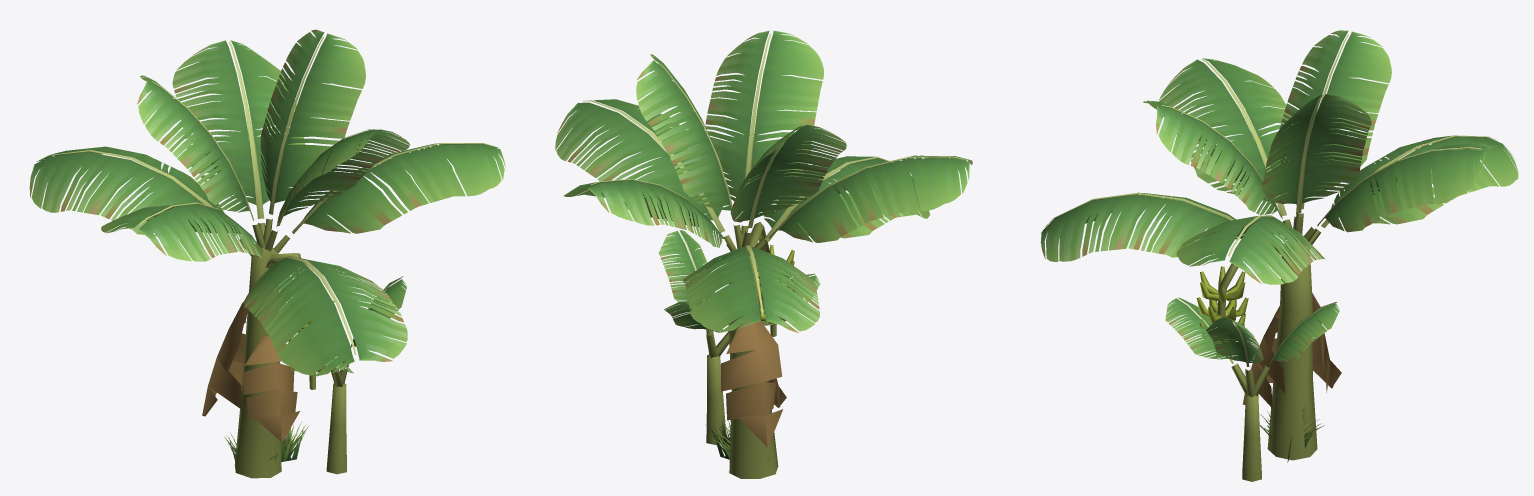
The model's file is banana.glb.
3 views of the same model, side by side, from view 1: azimuth 30°, elevation 25°; view 2: azimuth 150°, elevation 25°; view 3: azimuth 270°, elevation 25° (orthographic). The views are drawn at different scales.
Parts seen in each view (by area): view 1: banana_mesh; view 2: banana_mesh; view 3: banana_mesh.
Part boxes in pixels (box(x1,y1,x2,y2)): banana_mesh: box(29, 29, 505, 478); banana_mesh: box(555, 30, 972, 478); banana_mesh: box(1040, 30, 1518, 481).
Size of the model in its own units: 2.9 by 2.77 by 3.04.
Materials: 5 (2 with a texture image).
